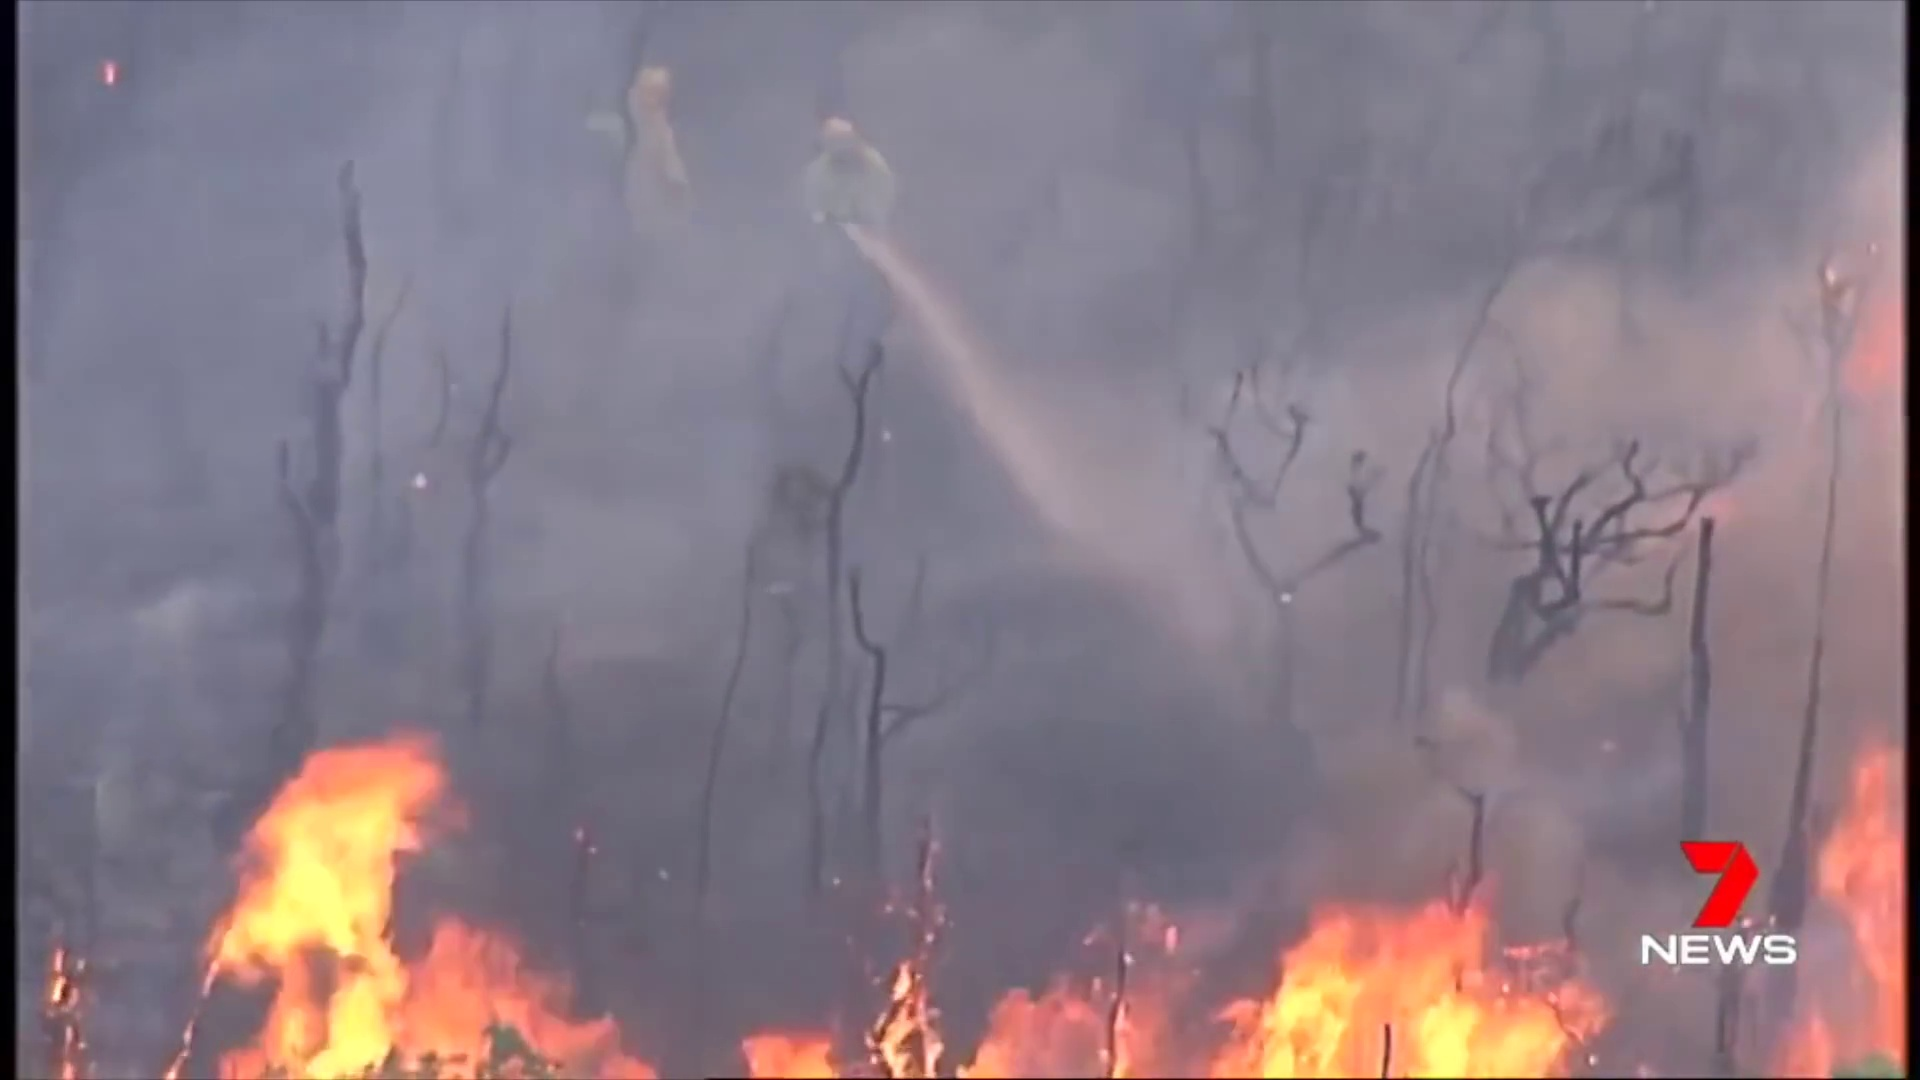fire: (216, 752, 492, 1072), (1213, 899, 1556, 1080), (1826, 760, 1907, 993), (744, 1035, 833, 1080)
